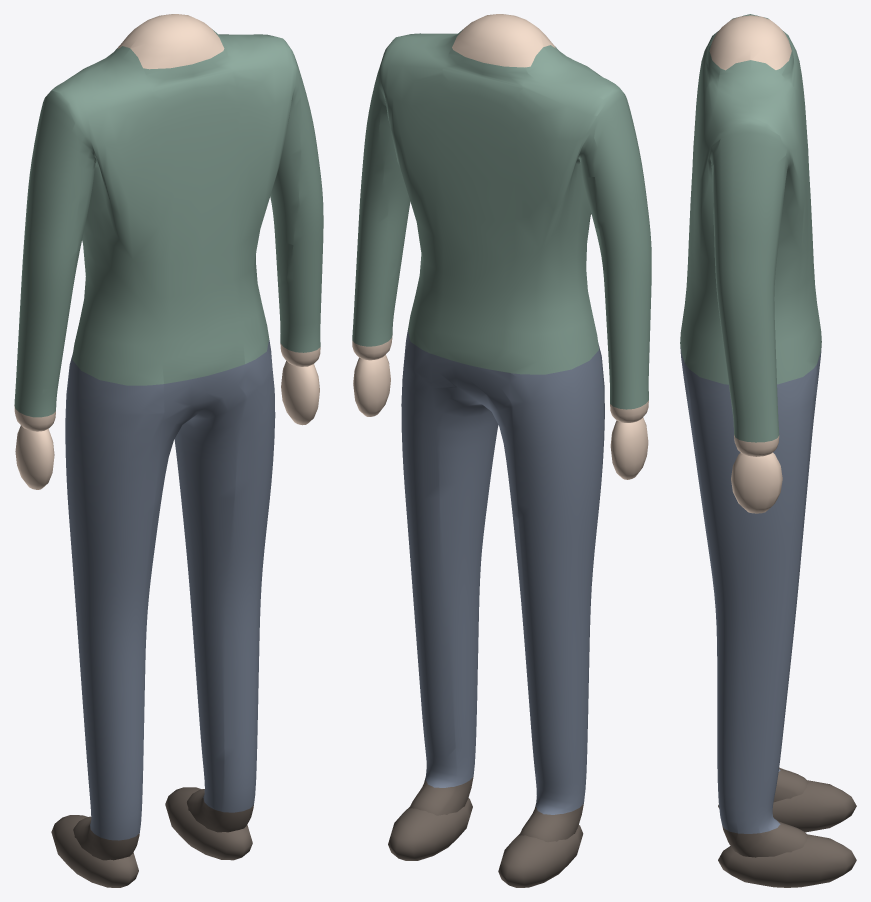
Rendered from gente.cuerpo_mujer.fbx.
The picture shows the model from 3 angles, left to right: view 1: azimuth 30°, elevation 25°; view 2: azimuth 150°, elevation 25°; view 3: azimuth 270°, elevation 25°; orthographic projection. The views are drawn at different scales.
Visible parts, largest first — view 1: Cuerpo, Zapato, Zapato.001, Mano.001, Mano; view 2: Cuerpo, Zapato, Zapato.001, Mano, Mano.001; view 3: Cuerpo, Zapato, Zapato.001, Mano.
Boxes of the visible parts, bbox=[...] form: Cuerpo: bbox=[14, 14, 323, 860]; Zapato: bbox=[165, 787, 252, 860]; Zapato.001: bbox=[51, 815, 138, 887]; Mano.001: bbox=[15, 425, 54, 489]; Mano: bbox=[281, 361, 319, 425]; Cuerpo: bbox=[352, 14, 651, 842]; Zapato: bbox=[388, 798, 472, 860]; Zapato.001: bbox=[498, 825, 583, 887]; Mano: bbox=[353, 354, 390, 416]; Mano.001: bbox=[610, 417, 648, 479]; Cuerpo: bbox=[680, 14, 821, 857]; Zapato: bbox=[718, 834, 856, 887]; Zapato.001: bbox=[718, 780, 856, 832]; Mano: bbox=[731, 452, 782, 513].
Size of the model in its own units: 0.5504 by 1.51 by 0.2898.
